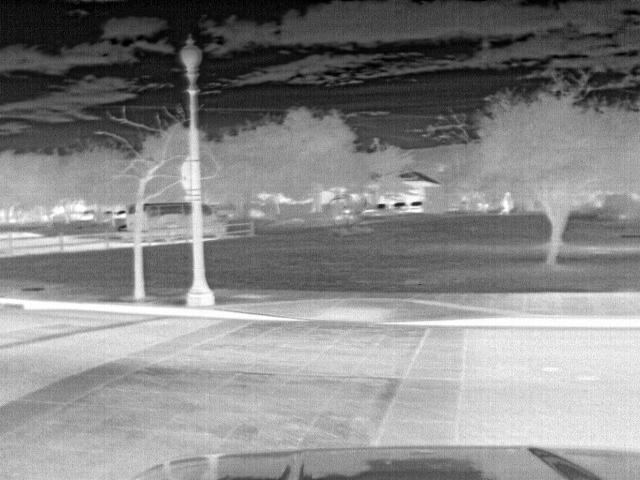car: (146, 202, 194, 234), (205, 203, 235, 239), (119, 204, 135, 236), (409, 198, 424, 214), (392, 200, 408, 214)
person: (498, 190, 514, 216)
